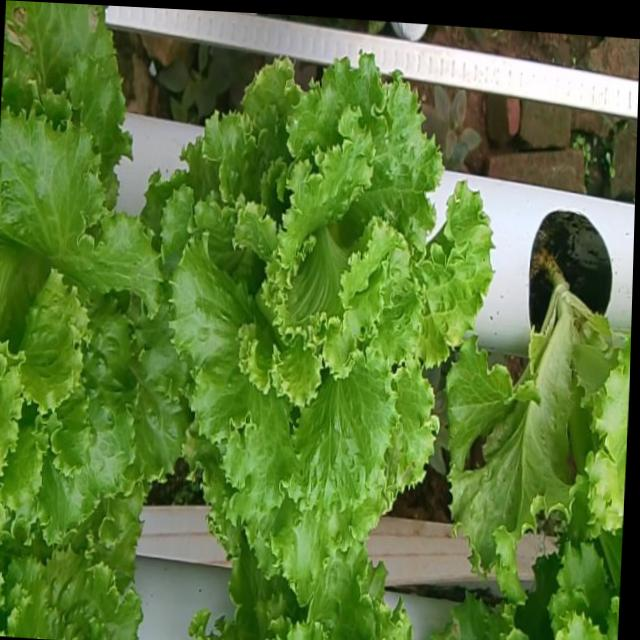Mature: (161, 40, 495, 576), (0, 92, 186, 538)
